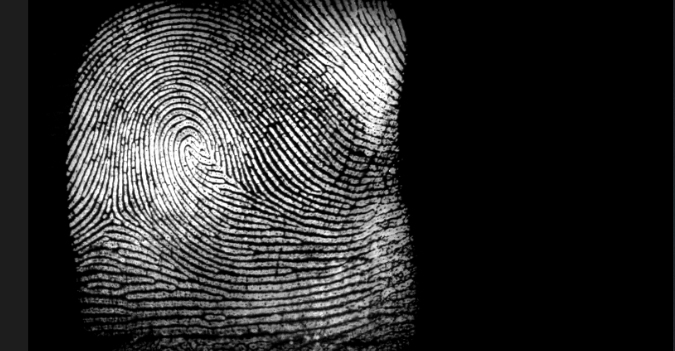nucelo: (183, 145, 197, 160)
verticilo: (104, 212, 123, 225)
